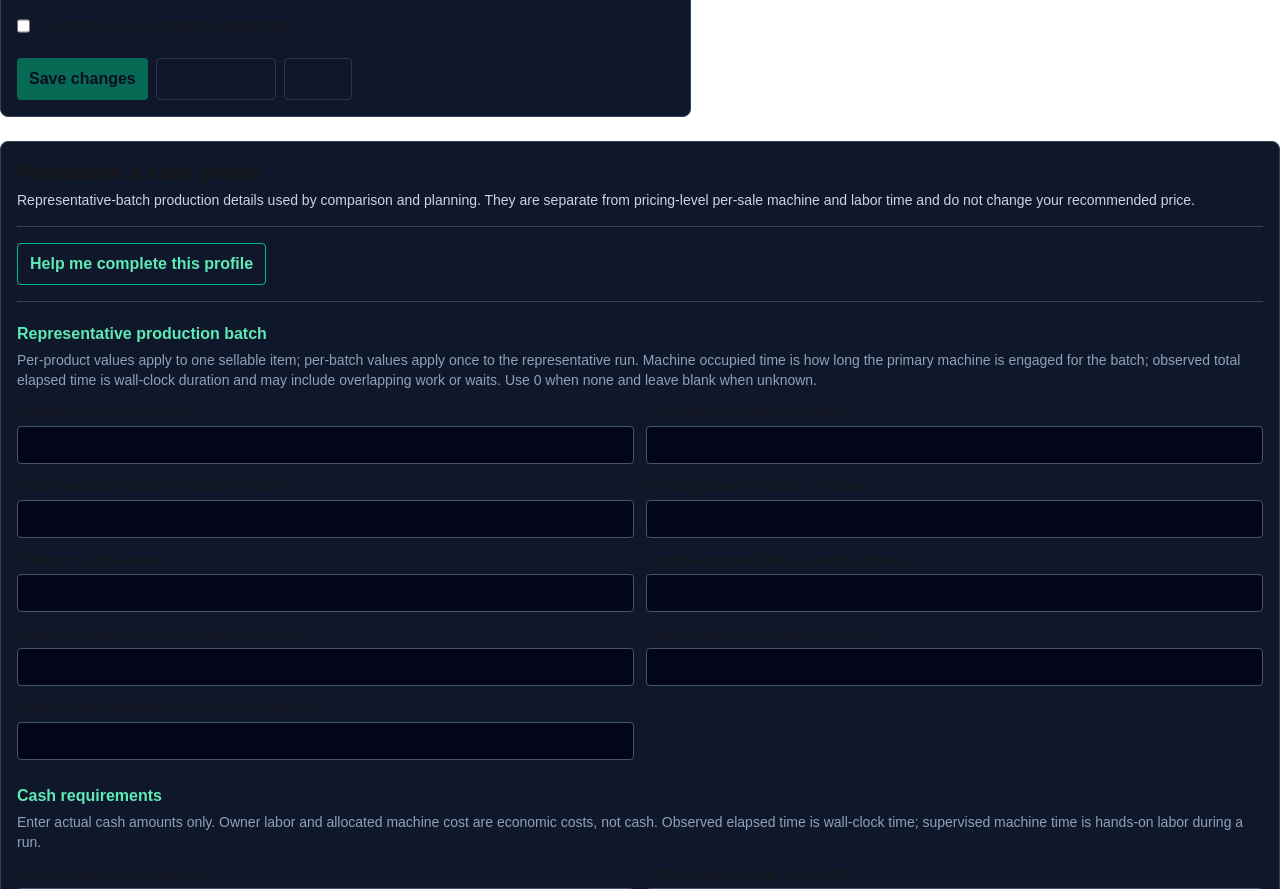
Scenario: saved product editor › preserves profile form contents when saving fails
(page scrolled)
In the number field labelled "Sellable products per batch": [326, 445] box [17, 426, 634, 464], type "7"
(page scrolled)
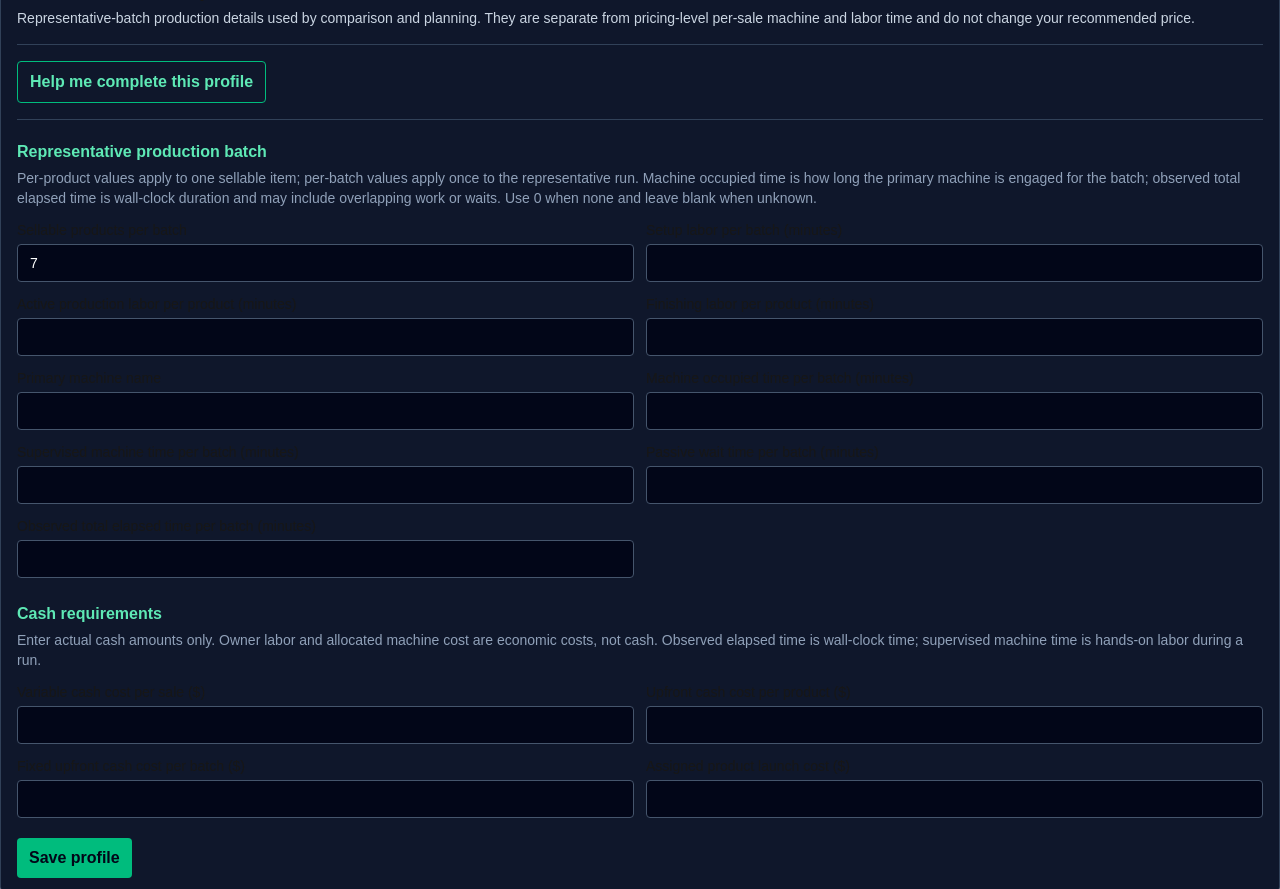
Click the button "Save profile": [74, 858] box [17, 838, 132, 878]
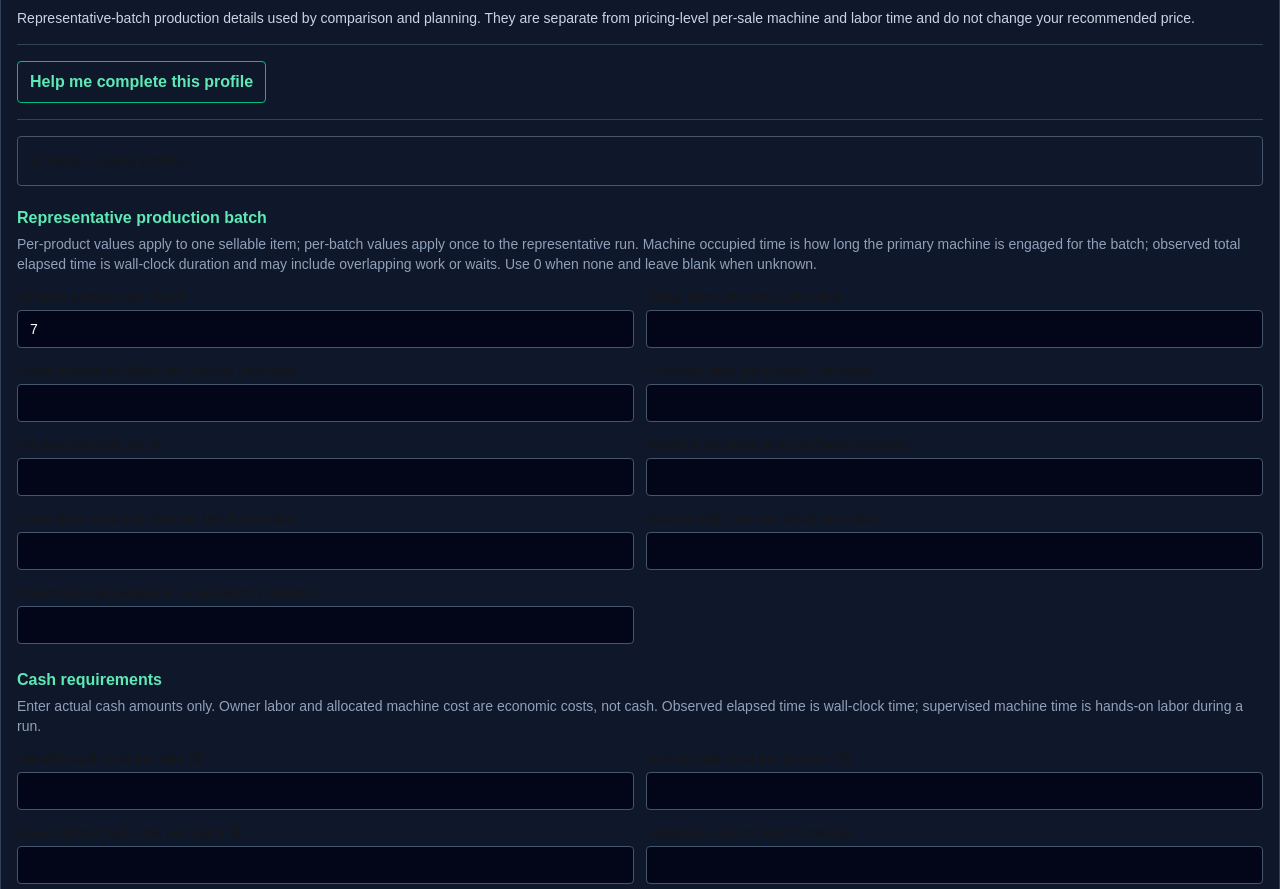
Result: the text "Unable to save profile." is shown at [17, 136, 1263, 186]
